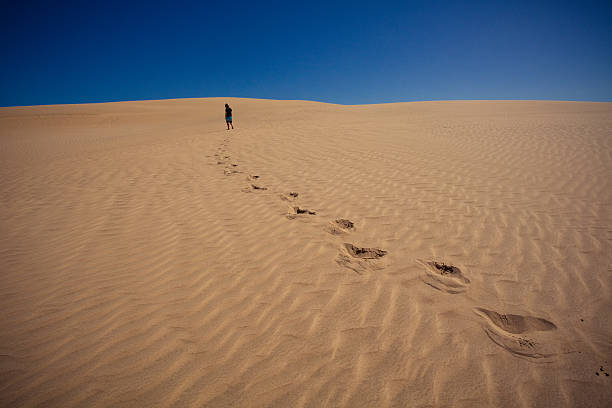human_footprint: (474, 308, 558, 360), (417, 259, 469, 293), (336, 243, 386, 273), (325, 218, 354, 234)
